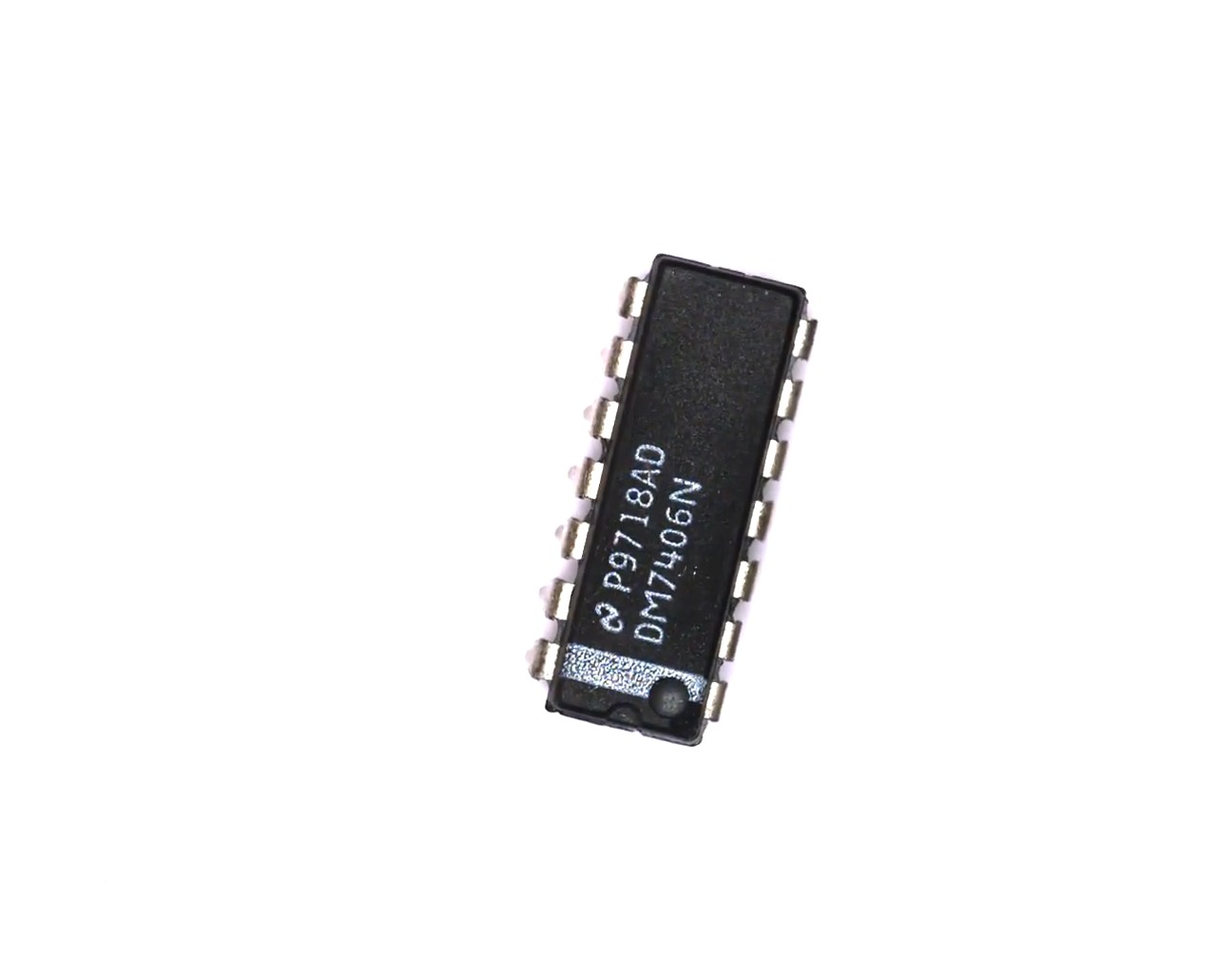IC: (503, 240, 839, 774)
notch: (599, 700, 642, 736)
